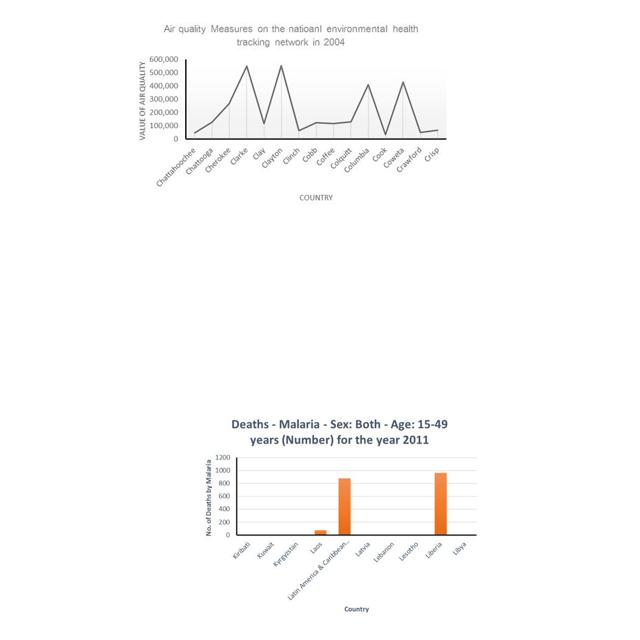Graph: (132, 17, 454, 211), (200, 413, 480, 619)
